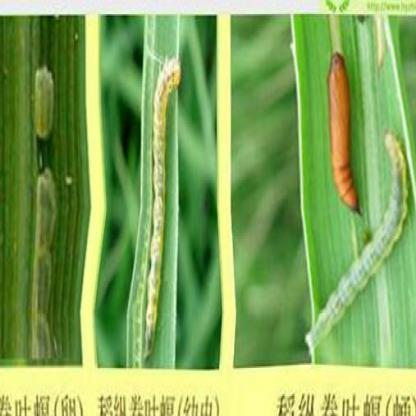leaf-folder: (290, 50, 406, 356), (132, 49, 198, 350), (23, 63, 65, 374)
